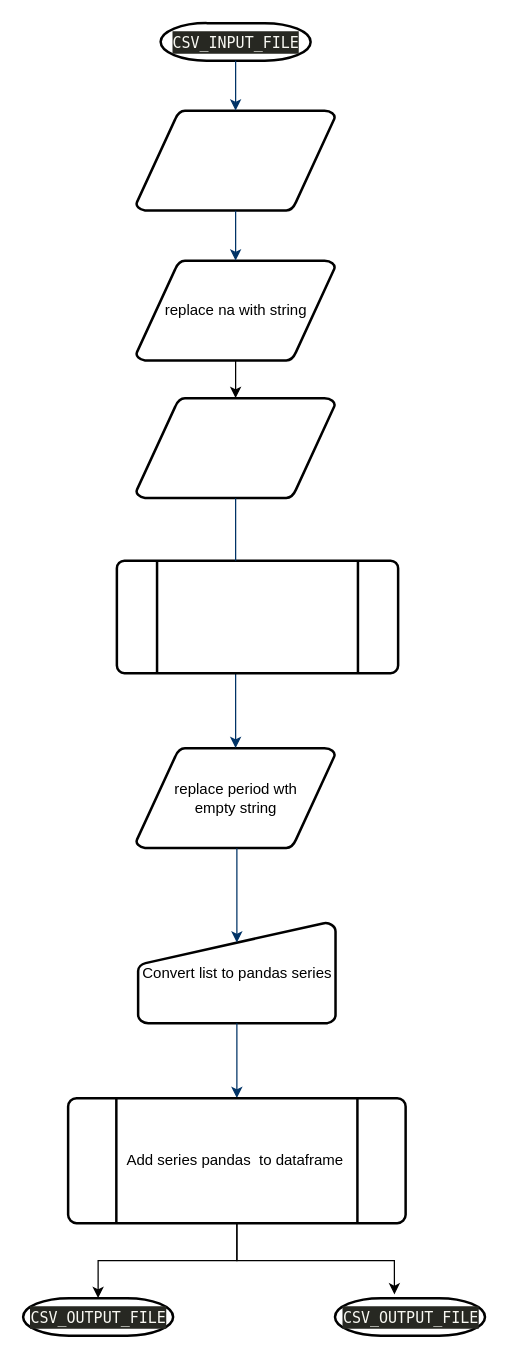
This 508x1358 diagram has some shape labels left out. The centre of each missing label's shape, as x and y in pixels:
"Convert pandas series to list" goes at point 257,616.
"extract violation numbers with regex" goes at point 235,447.
"pandas read CSV" goes at point 235,160.
